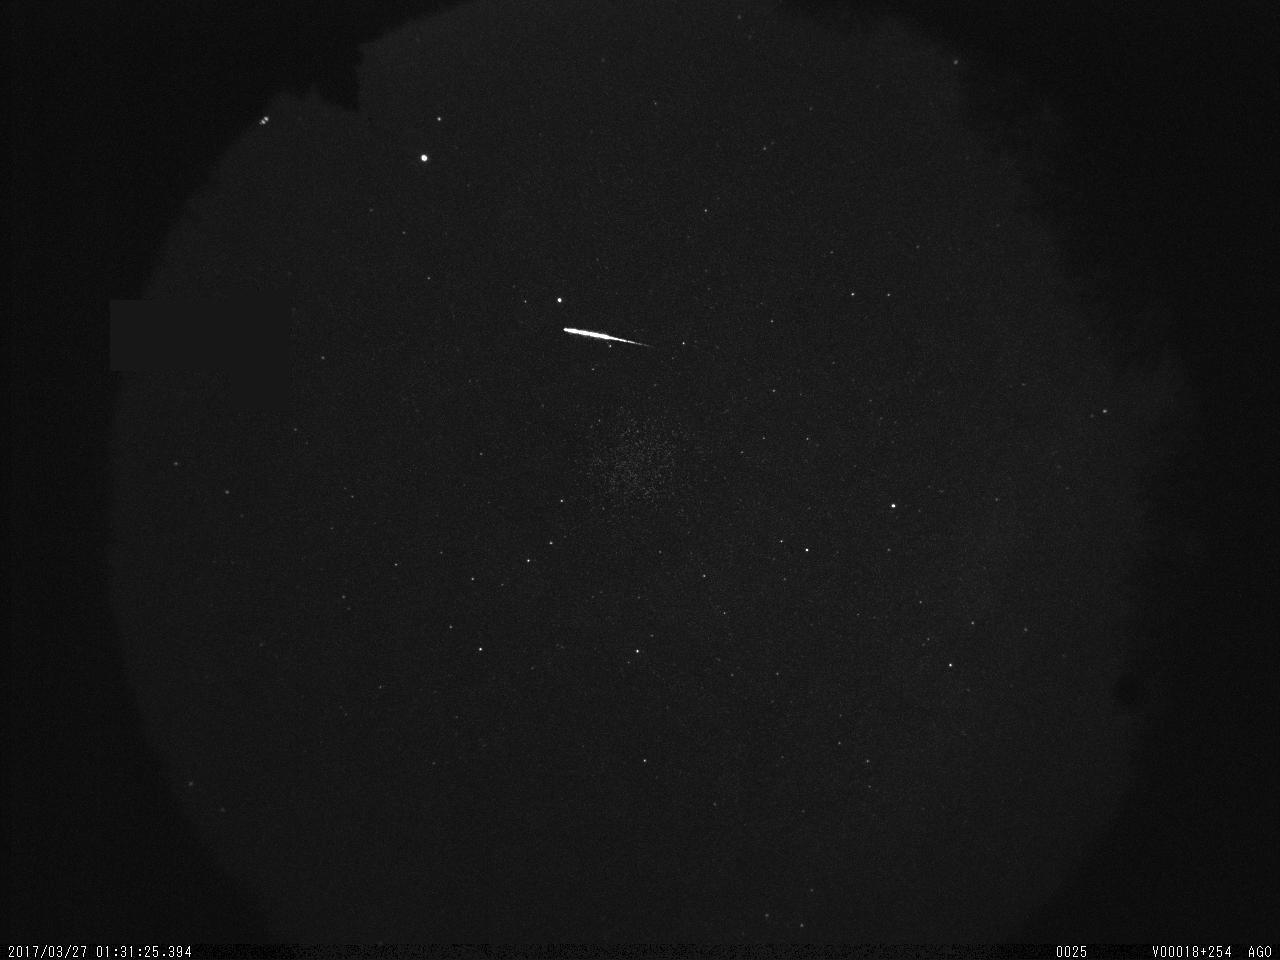meteor: (551, 317, 662, 361)
